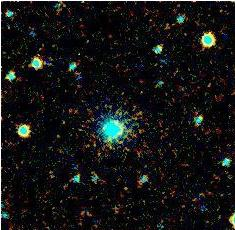star: (0, 11, 23, 41)
